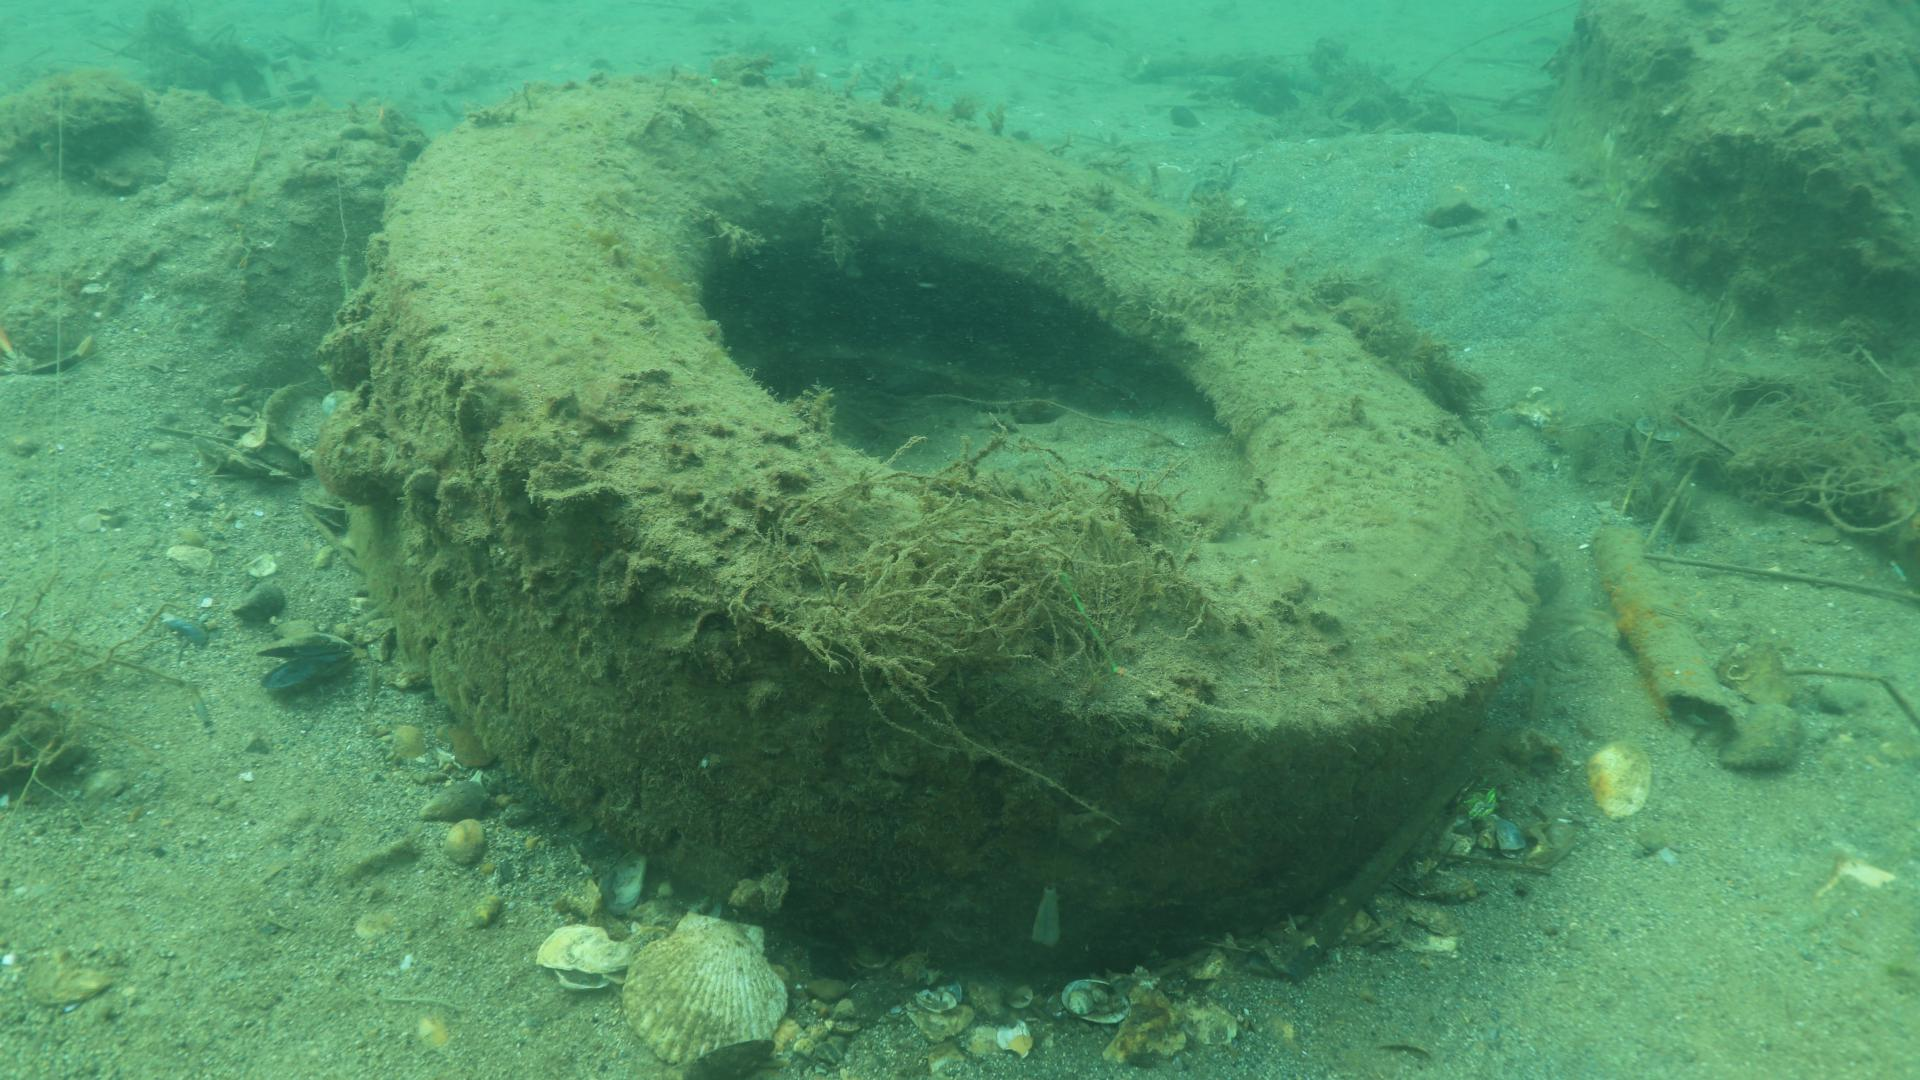tire: (367, 70, 1539, 964)
